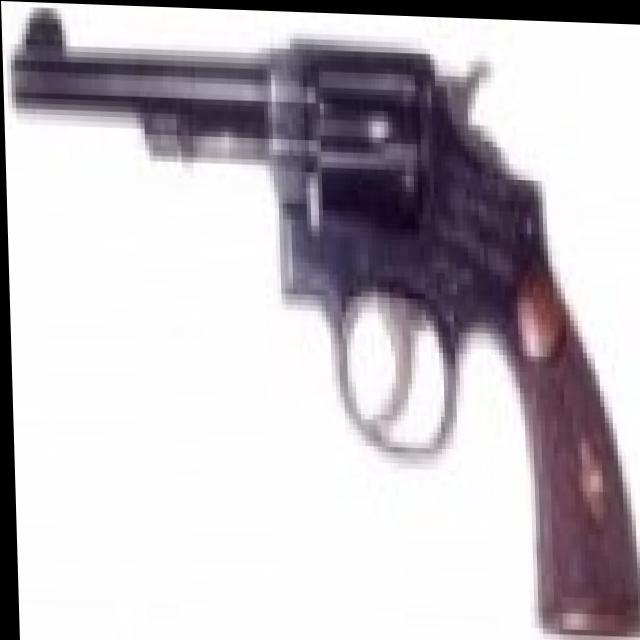handgun: (16, 11, 640, 627)
